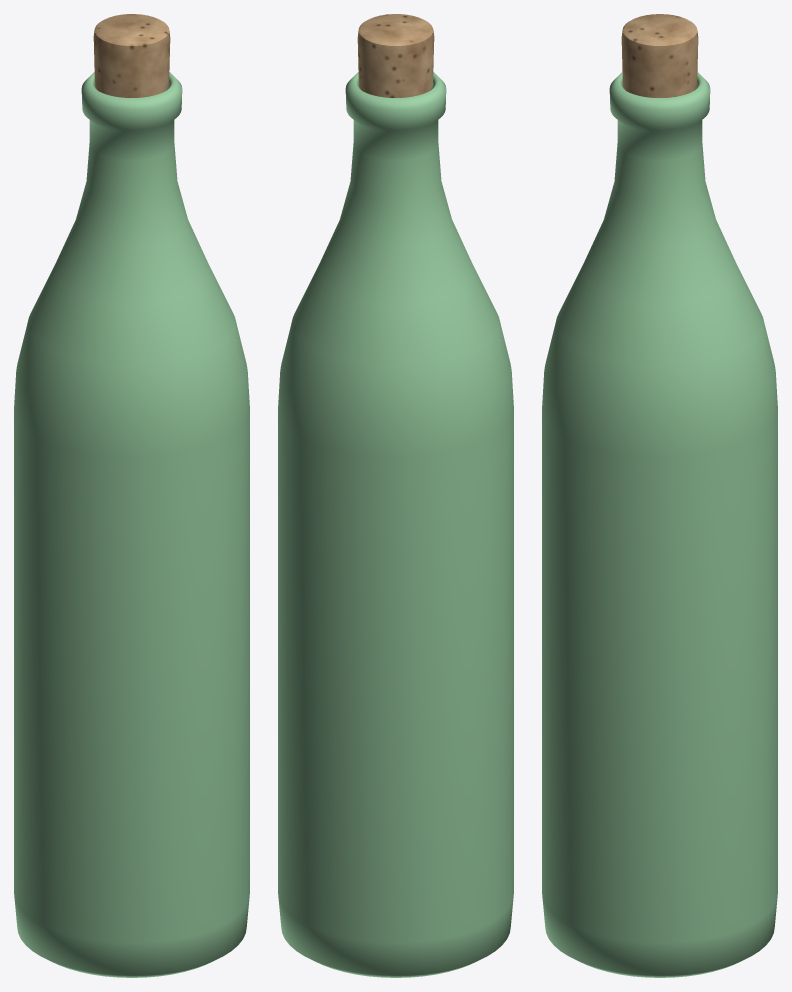
Rendered from Wine.glb.
3 views of the same model, side by side, from view 1: azimuth 30°, elevation 25°; view 2: azimuth 150°, elevation 25°; view 3: azimuth 270°, elevation 25° (orthographic).
Parts seen in each view (by area): view 1: Bottle, Cork; view 2: Bottle, Cork; view 3: Bottle, Cork.
Boxes of the visible parts, box(x1,y1,x2,y2) form: Bottle: box(14, 72, 249, 977); Cork: box(93, 14, 170, 97); Bottle: box(278, 72, 513, 977); Cork: box(357, 14, 434, 97); Bottle: box(542, 72, 777, 977); Cork: box(621, 14, 698, 97).
Size of the model in its own units: 0.075 by 0.3175 by 0.075.
Materials: 2 (1 with a texture image).
